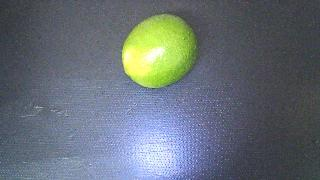EXPORTACION: (122, 14, 198, 88)
